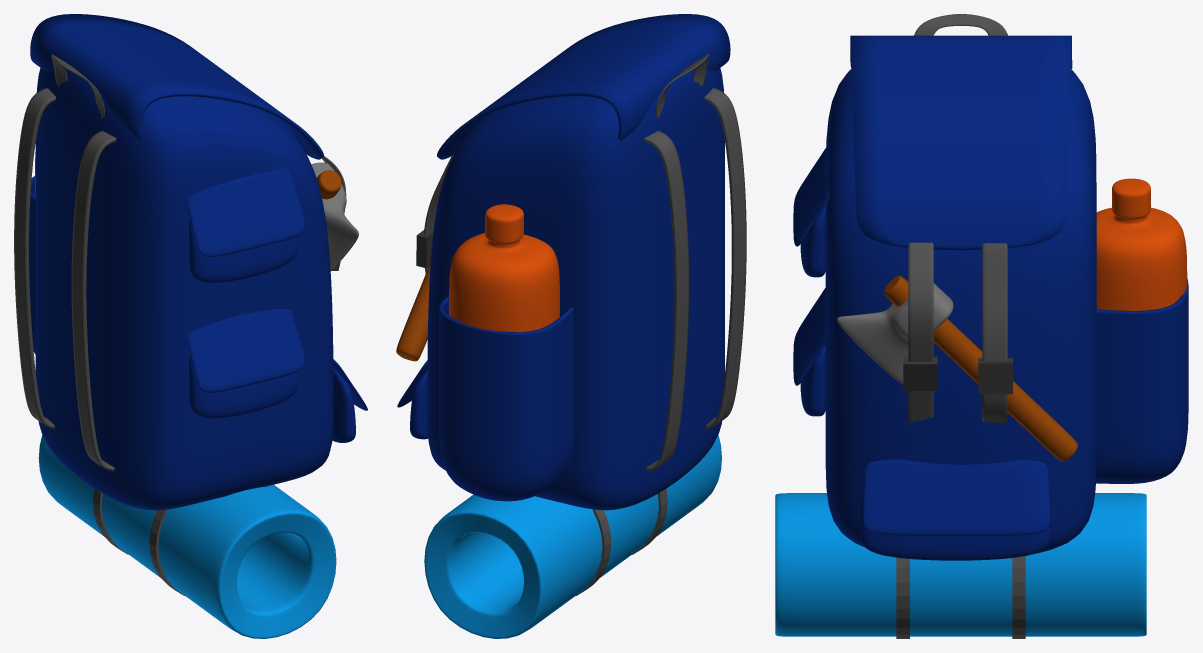
File: bsckpack.gltf
3 renders of one model, left to right at view 1: azimuth 30°, elevation 25°; view 2: azimuth 150°, elevation 25°; view 3: azimuth 270°, elevation 25°, orthographic. The views are drawn at different scales.
Parts seen in each view (by area): view 1: Cube, Cube.001, Plane.002, Plane.006, Plane.001, Plane, Cube.002, Cube.003, Cube.006, Cube.010, Circle, Cube.004 (+2 smaller); view 2: Cube, Cube.001, Cube.004, Plane.002, Cube.005, Plane.006, Cube.007, Circle, Cube.010, Plane.008, Cube.009, Plane.004; view 3: Cube, Plane.002, Cube.001, Cube.004, Plane.005, Cube.005, Cube.010, Cube.007, Cube.006, Plane.003, Plane.004, Circle (+7 smaller).
Part boxes in pixels (<box>): Cube: <box>35,68,333,510</box>; Cube.001: <box>38,435,336,638</box>; Plane.002: <box>30,14,323,159</box>; Plane.006: <box>14,87,116,471</box>; Plane.001: <box>186,168,305,256</box>; Plane: <box>186,309,305,392</box>; Cube.002: <box>189,354,298,418</box>; Cube.003: <box>189,219,298,282</box>; Cube.006: <box>311,162,358,270</box>; Cube.010: <box>332,368,355,442</box>; Circle: <box>93,488,185,596</box>; Cube.004: <box>29,176,35,354</box>; Cube: <box>427,68,724,510</box>; Cube.001: <box>424,435,721,638</box>; Cube.004: <box>439,295,573,501</box>; Plane.002: <box>437,14,730,159</box>; Cube.005: <box>449,204,559,332</box>; Plane.006: <box>644,87,746,471</box>; Cube.007: <box>396,262,430,361</box>; Circle: <box>576,488,667,595</box>; Cube.010: <box>410,370,428,439</box>; Plane.008: <box>655,54,709,118</box>; Cube.009: <box>416,230,433,268</box>; Plane.004: <box>424,155,453,273</box>; Cube: <box>825,69,1096,554</box>; Plane.002: <box>850,35,1072,250</box>; Cube.001: <box>775,493,1146,636</box>; Cube.004: <box>1096,279,1188,483</box>; Plane.005: <box>863,459,1050,535</box>; Cube.005: <box>1096,178,1187,310</box>; Cube.010: <box>861,490,1050,560</box>; Cube.007: <box>884,276,1077,461</box>; Cube.006: <box>837,283,953,384</box>; Plane.003: <box>908,242,933,422</box>; Plane.004: <box>982,243,1007,423</box>; Circle: <box>896,556,1025,638</box>.
Bounding box in the file's own units: 2.42 × 4.53 × 3.05.
